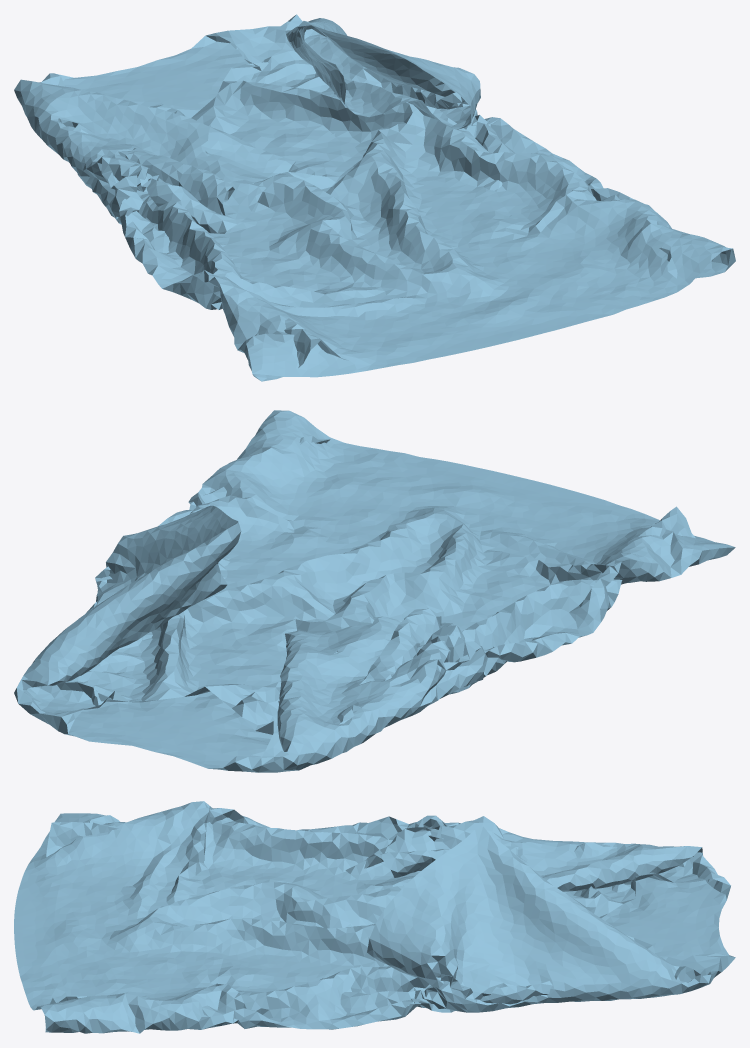
The model's file is frame_16.glb.
3 renders of one model, top to bottom at view 1: azimuth 30°, elevation 25°; view 2: azimuth 150°, elevation 25°; view 3: azimuth 270°, elevation 25°, orthographic. The views are drawn at different scales.
Parts seen in each view (by area): view 1: frame_16.obj; view 2: frame_16.obj; view 3: frame_16.obj.
Boxes of the visible parts, <box> form: frame_16.obj: <box>14,14,735,381</box>; frame_16.obj: <box>14,410,735,772</box>; frame_16.obj: <box>14,801,735,1033</box>.
Bounding box in the file's own units: 1.22 × 0.3315 × 1.7.
